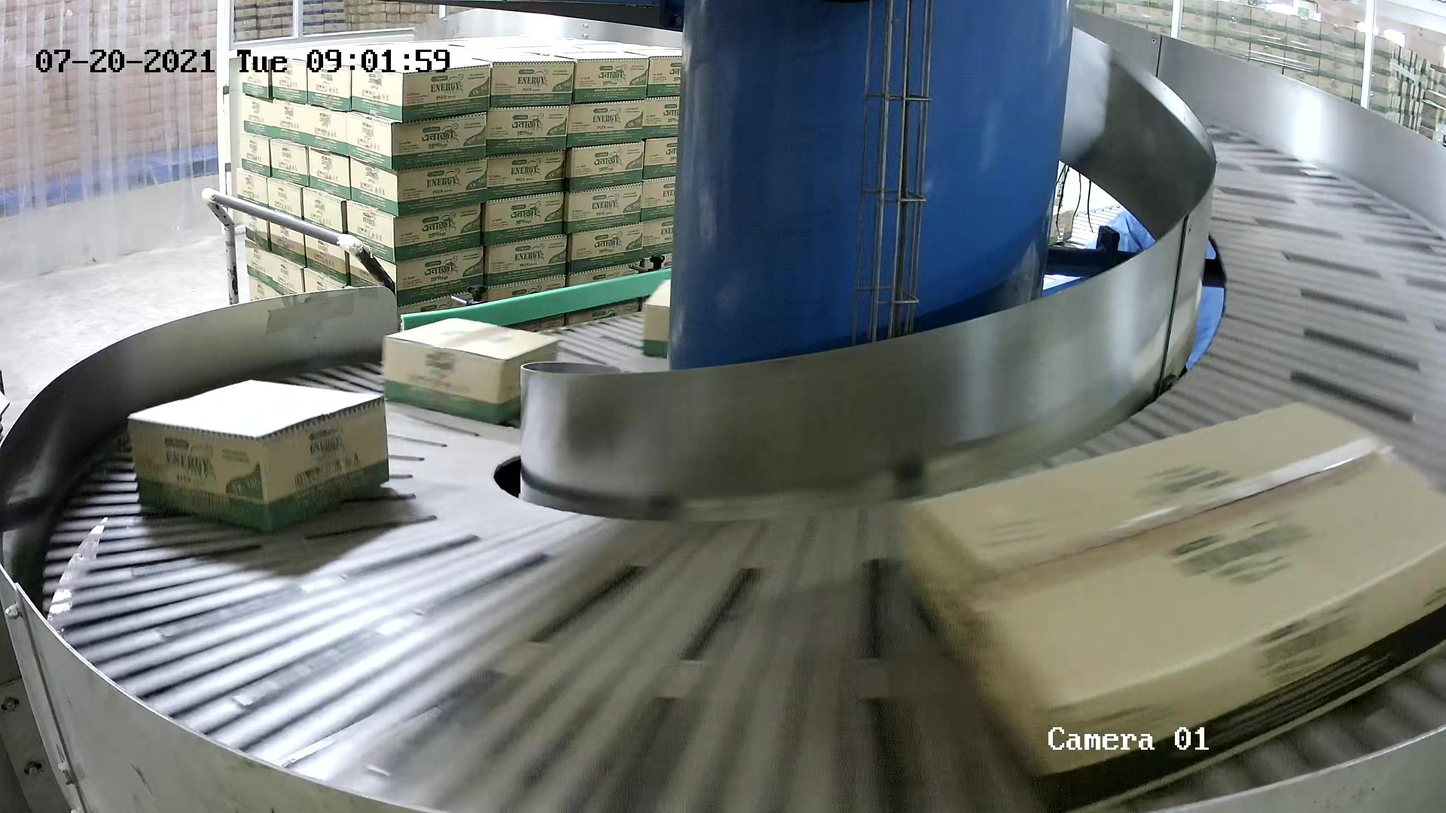Box: (899, 397, 1446, 812), (125, 378, 392, 536), (382, 313, 560, 428), (640, 274, 673, 360)
